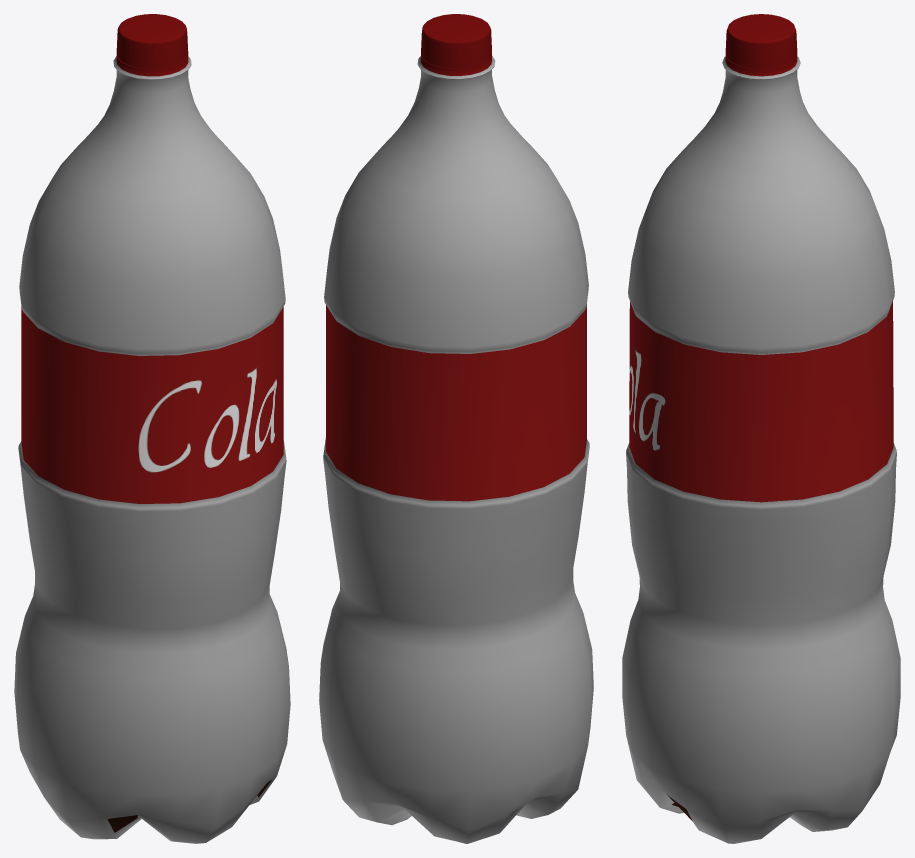
File: Soda Bottle.fbx
The picture shows the model from 3 angles, left to right: view 1: azimuth 30°, elevation 25°; view 2: azimuth 150°, elevation 25°; view 3: azimuth 270°, elevation 25°; orthographic projection.
Parts seen in each view (by area): view 1: Soda_Bottle; view 2: Soda_Bottle; view 3: Soda_Bottle.
Boxes of the visible parts, x1,y1,x2,y2 form: Soda_Bottle: [14, 14, 290, 843]; Soda_Bottle: [319, 14, 593, 843]; Soda_Bottle: [622, 14, 900, 843].
Size of the model in its own units: 1.15 by 3.59 by 1.16.
2 materials, 1 textured.
